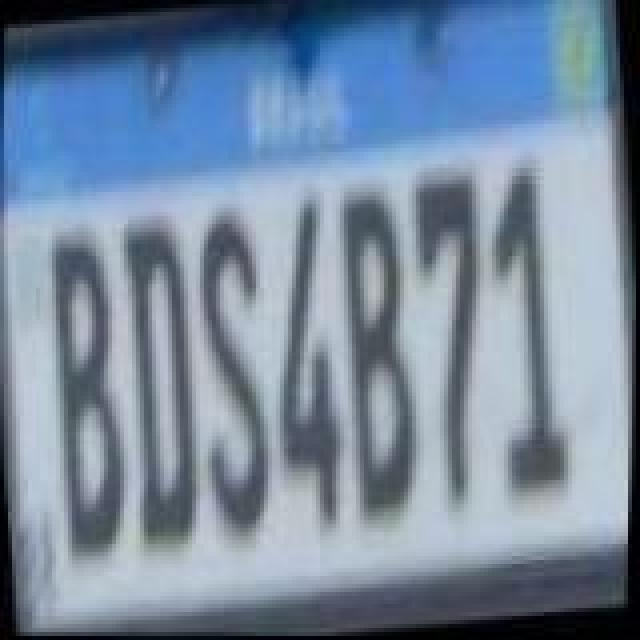1: (476, 156, 580, 496)
4: (256, 194, 360, 534)
7: (402, 164, 510, 500)
B: (328, 182, 432, 518), (40, 228, 140, 560)
D: (112, 212, 212, 548)
S: (182, 206, 290, 538)
